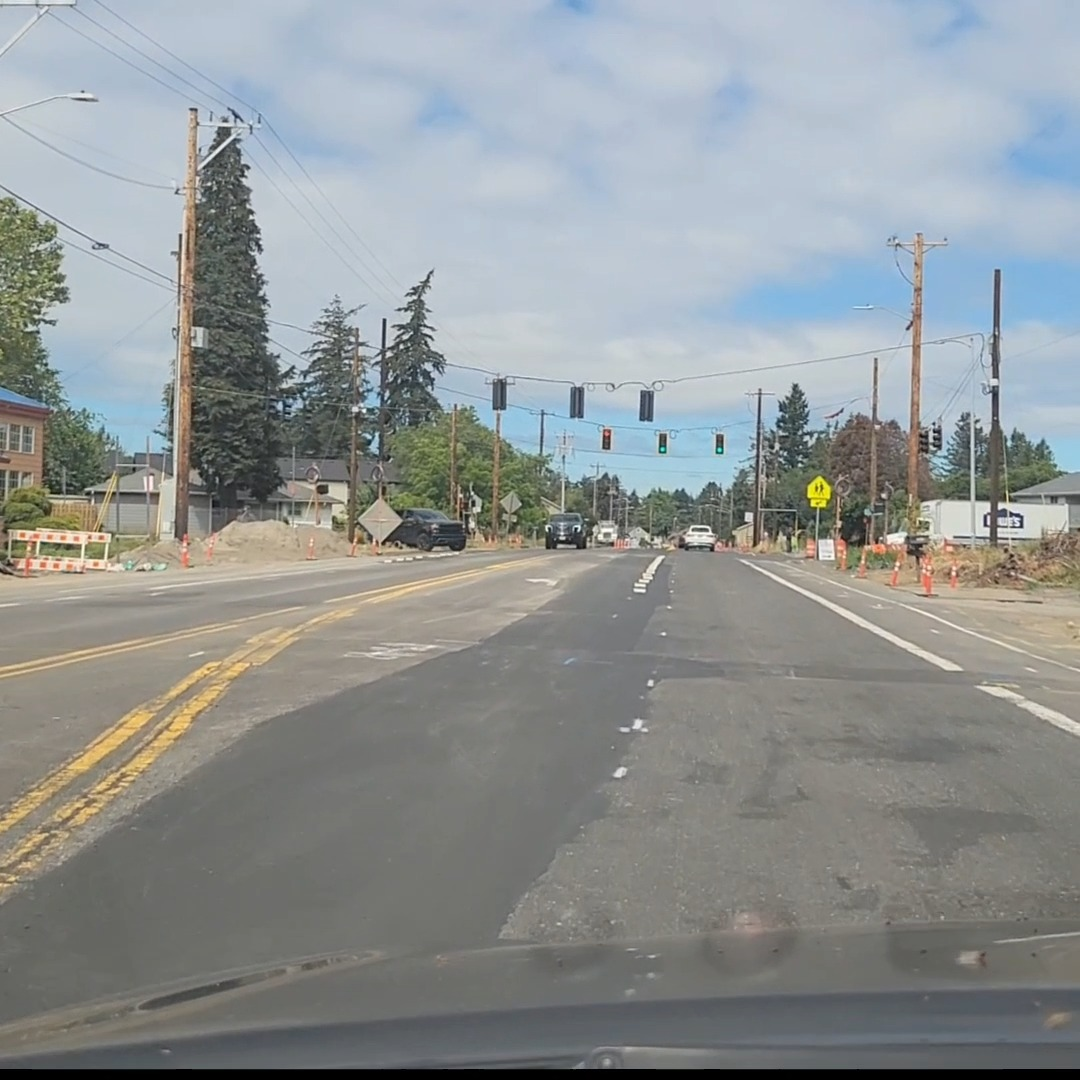car: (385, 507, 468, 551), (544, 513, 587, 548), (678, 525, 718, 551), (593, 520, 618, 546)
crosswalk-sign: (806, 475, 831, 509)
delineator: (920, 553, 934, 596), (857, 544, 869, 578), (889, 553, 901, 586), (179, 535, 191, 568), (22, 544, 33, 577), (204, 536, 214, 564), (348, 532, 359, 557), (305, 535, 316, 559), (948, 563, 958, 588), (370, 536, 379, 555), (739, 540, 750, 552)
